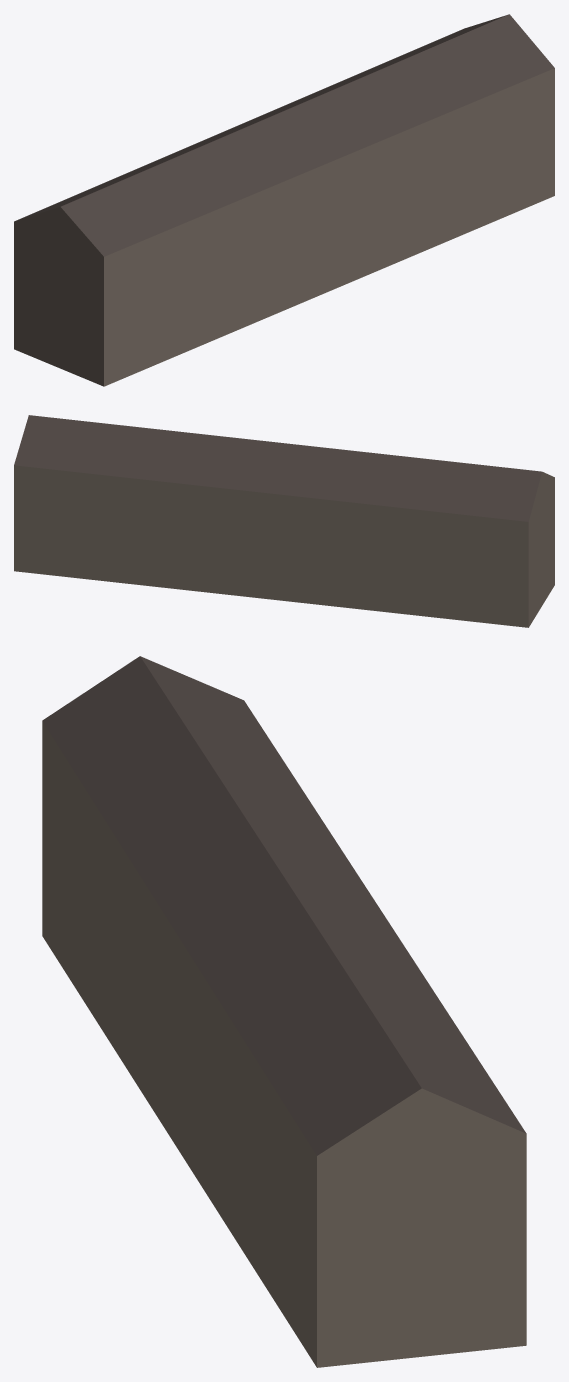
3 renders of one model, top to bottom at view 1: azimuth 30°, elevation 25°; view 2: azimuth 150°, elevation 25°; view 3: azimuth 270°, elevation 25°, orthographic. The views are drawn at different scales.
Visible parts, largest first — view 1: HP-w1200835403; view 2: HP-w1200835403; view 3: HP-w1200835403.
Part boxes in pixels (left/top/right/bottom): HP-w1200835403: left=14, top=14, right=554, bottom=386; HP-w1200835403: left=14, top=415, right=554, bottom=627; HP-w1200835403: left=42, top=656, right=526, bottom=1367.
Size of the model in its own units: 41.5 by 11.4 by 18.65.
